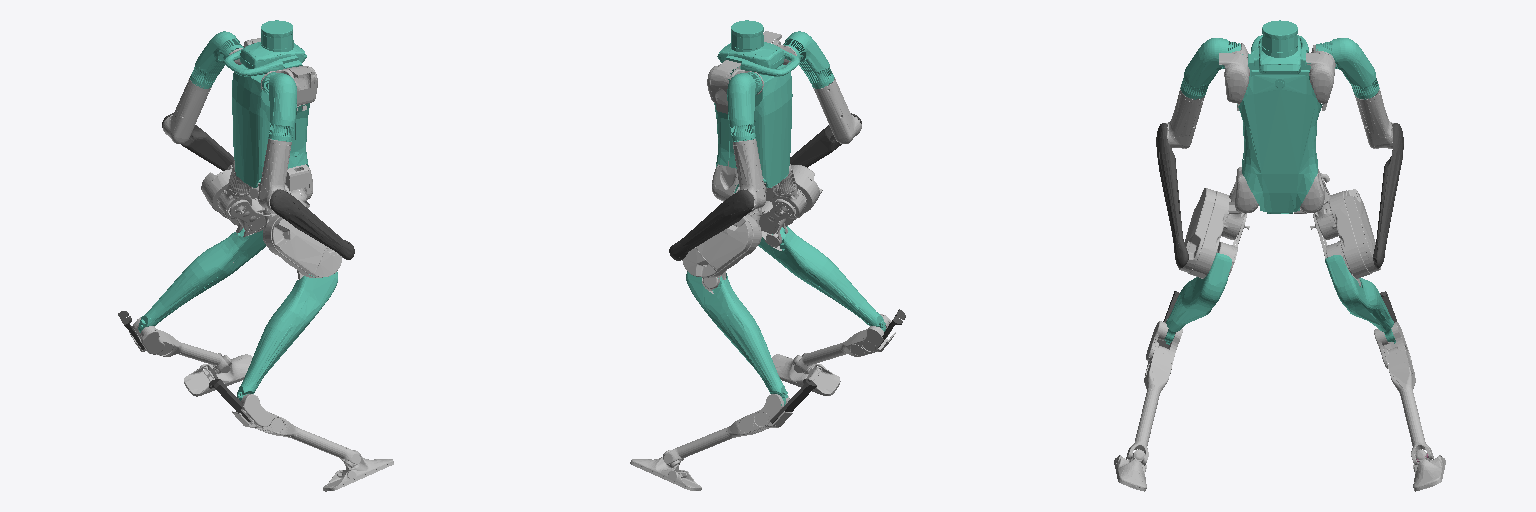
--- Facts derived from the render (not from the file) ---
The picture shows the robot from 3 angles, left to right: view 1: azimuth 30°, elevation 25°; view 2: azimuth 150°, elevation 25°; view 3: azimuth 270°, elevation 25°; orthographic projection.
Robot: digit-v3-modified — 33 links, 32 joints (17 revolute, 3 prismatic, 12 fixed); root link ground; default pose: every joint at zero.
Visible links, largest first — view 1: Rz, right_shin, left_shin, right_hip_pitch, right_tarsus, right_elbow, right_shoulder_pitch, left_tarsus, left_shoulder_yaw, left_shoulder_pitch, right_shoulder_yaw, left_toe_roll (+4 smaller); view 2: Rz, left_shin, right_shin, left_hip_pitch, left_tarsus, left_elbow, left_shoulder_pitch, right_tarsus, right_shoulder_yaw, right_shoulder_pitch, left_shoulder_yaw, right_toe_roll (+5 smaller); view 3: Rz, left_hip_pitch, right_hip_pitch, left_tarsus, right_tarsus, right_shin, left_shin, right_elbow, left_shoulder_pitch, right_shoulder_pitch, left_elbow, left_shoulder_yaw (+4 smaller).
Link boxes in pixels (box(x1,y1,x2,y2)): Rz: box(224, 20, 317, 207); right_shin: box(237, 272, 337, 400); left_shin: box(138, 228, 265, 332); right_hip_pitch: box(265, 215, 342, 277); right_tarsus: box(232, 394, 360, 463); right_elbow: box(270, 190, 354, 259); right_shoulder_pitch: box(262, 72, 296, 141); left_tarsus: box(129, 317, 230, 372); left_shoulder_yaw: box(163, 78, 211, 143); left_shoulder_pitch: box(190, 31, 243, 88); right_shoulder_yaw: box(258, 139, 291, 212); left_toe_roll: box(184, 354, 252, 396); Rz: box(707, 20, 799, 201); left_shin: box(686, 271, 787, 405); right_shin: box(758, 226, 885, 331); left_hip_pitch: box(682, 214, 759, 277); left_tarsus: box(663, 394, 792, 463); left_elbow: box(669, 190, 753, 260); left_shoulder_pitch: box(727, 72, 762, 141); right_tarsus: box(794, 314, 895, 372); right_shoulder_yaw: box(813, 78, 861, 143); right_shoulder_pitch: box(783, 31, 834, 88); left_shoulder_yaw: box(733, 139, 765, 211); right_toe_roll: box(772, 354, 840, 395); Rz: box(1219, 20, 1335, 213); left_hip_pitch: box(1313, 189, 1380, 278); right_hip_pitch: box(1178, 188, 1246, 278); left_tarsus: box(1374, 322, 1433, 464); right_tarsus: box(1126, 321, 1182, 464); right_shin: box(1164, 253, 1231, 344); left_shin: box(1325, 255, 1395, 343); right_elbow: box(1156, 123, 1188, 267); left_shoulder_pitch: box(1316, 38, 1379, 99); right_shoulder_pitch: box(1180, 38, 1242, 99); left_elbow: box(1373, 123, 1403, 268); left_shoulder_yaw: box(1354, 87, 1393, 148).
Bounding box of the posed robot: 0.5627 × 0.9376 × 1.4 m (x, y, z).
Meshes: 16 distinct files referenced, 31 mesh visuals loaded (16 binary STL).

URDF robot description (digit-v3-modified):
<?xml version="1.0" encoding="utf-8"?>
<robot name="digit-v3-modified">
  <!-- floating base -->
  <link name = "ground">
    <inertial>
      <origin xyz = "0 0 0" rpy = "0 0 0" />
      <mass value = "0"/>
      <inertia ixx = "0" ixy = "0" ixz = "0" iyy = "0" iyz = "0" izz = "0"/>
    </inertial>
  </link>
  <link name = "Px">
    <inertial>
      <origin xyz = "0 0 0" rpy = "0 0 0" />
      <mass value = "0"/>
      <inertia ixx = "0" ixy = "0" ixz = "0" iyy = "0" iyz = "0" izz = "0"/>
    </inertial>
  </link>
  <link name = "Py">
    <inertial>
      <origin xyz = "0 0 0" rpy = "0 0 0" />
      <mass value = "0"/>
      <inertia ixx = "0" ixy = "0" ixz = "0" iyy = "0" iyz = "0" izz = "0"/>
    </inertial>
  </link>
  <link name = "Pz">
    <inertial>
      <origin xyz = "0 0 0" rpy = "0 0 0" />
      <mass value = "0"/>
      <inertia ixx = "0" ixy = "0" ixz = "0" iyy = "0" iyz = "0" izz = "0"/>
    </inertial>
  </link>
  <link name = "Rx">
    <inertial>
      <origin xyz = "0 0 0" rpy = "0 0 0" />
      <mass value = "0"/>
      <inertia ixx = "0" ixy = "0" ixz = "0" iyy = "0" iyz = "0" izz = "0"/>
    </inertial>
  </link>
  <link name = "Ry">
    <inertial>
      <origin xyz = "0 0 0" rpy = "0 0 0" />
      <mass value = "0"/>
      <inertia ixx = "0" ixy = "0" ixz = "0" iyy = "0" iyz = "0" izz = "0"/>
    </inertial>
  </link>
  <link name = "Rz">
    <inertial>
      <origin rpy="0 0 0" xyz="0.001636612541 0.0002001180789 0.2593064529"/>
      <mass value="15.028392"/>
      <inertia ixx="0.3759052548" ixy="-8.776732849e-05" ixz="0.008498611229" iyy="0.3441935" iyz="6.621611757e-05" izz="0.09873232746"/>
    </inertial>
    <visual>
      <origin rpy="0 0 0" xyz="0 0 0"/>
      <geometry>
        <mesh filename="meshes/torso-v3/torso.stl"/>
      </geometry>
      <material name="scarlet">
        <color rgba="0.427 0.784 0.714 1"/>
      </material>
    </visual>
    <visual>
      <origin rpy="0 -1.5707963267948966192313216916398 0" xyz="-0.001 0.091 0"/>
      <geometry>
        <mesh filename="meshes/leg-v3/hip-roll-housing.stl"/>
      </geometry>
      <material name="light_grey">
        <color rgba="0.75 0.75 0.75 1"/>
      </material>
    </visual>
    <visual>
      <origin rpy="-0 -1.5707963267948966192313216916398 0" xyz="-0.001 0.12 0.4"/>
      <geometry>
        <mesh filename="meshes/arm-v3/link-0.stl"/>
      </geometry>
      <material name="light_grey">
        <color rgba="0.75 0.75 0.75 1"/>
      </material>
    </visual>
    <visual>
      <origin rpy="0 -1.5707963267948966192313216916398 0" xyz="-0.001 -0.091 0"/>
      <geometry>
        <mesh filename="meshes/leg-v3/hip-roll-housing.stl"/>
      </geometry>
      <material name="light_grey">
        <color rgba="0.75 0.75 0.75 1"/>
      </material>
    </visual>
    <visual>
      <origin rpy="0 -1.5707963267948966192313216916398 0" xyz="-0.001 -0.12 0.4"/>
      <geometry>
        <mesh filename="meshes/arm-v3/link-0.stl"/>
      </geometry>
      <material name="light_grey">
        <color rgba="0.75 0.75 0.75 1"/>
      </material>
    </visual>
    <collision>
      <origin rpy="0 0 0" xyz="0 0 0"/>
      <geometry>
        <mesh filename="meshes/torso-v3/torso.stl"/>
      </geometry>
    </collision>
    <collision>
      <origin rpy="0 -1.5707963267948966192313216916398 0" xyz="-0.001 0.091 0"/>
      <geometry>
        <mesh filename="meshes/leg-v3/hip-roll-housing.stl"/>
      </geometry>
    </collision>
    <collision>
      <origin rpy="-0.1745   -1.5707963267948966192313216916398         0" xyz="-0.001 0.12 0.4"/>
      <geometry>
        <mesh filename="meshes/arm-v3/link-0.stl"/>
      </geometry>
    </collision>
    <collision>
      <origin rpy="0 -1.5707963267948966192313216916398 0" xyz="-0.001 -0.091 0"/>
      <geometry>
        <mesh filename="meshes/leg-v3/hip-roll-housing.stl"/>
      </geometry>
    </collision>
    <collision>
      <origin rpy="0.1745   -1.5707963267948966192313216916398         0" xyz="-0.001 -0.12 0.4"/>
      <geometry>
        <mesh filename="meshes/arm-v3/link-0.stl"/>
      </geometry>
    </collision>
  </link>

  <!-- left leg -->
  <link name="left_hip_roll">
    <inertial>
      <origin rpy="0 0 0" xyz="-0.001967 0.000244 0.031435"/>
      <mass value="0.915088"/>
      <inertia ixx="0.001017" ixy="-3e-06" ixz="1.3e-05" iyy="0.001148" iyz="-4e-06" izz="0.000766"/>
    </inertial>
    <visual>
      <origin rpy="0 0 0" xyz="0 0 0"/>
      <geometry>
        <mesh filename="meshes/leg-v3/hip-yaw-housing.stl"/>
      </geometry>
      <material name="light_grey">
        <color rgba="0.75 0.75 0.75 1"/>
      </material>
    </visual>
    <collision>
      <origin rpy="0 0 0" xyz="0 0 0"/>
      <geometry>
        <mesh filename="meshes/leg-v3/hip-yaw-housing.stl"/>
      </geometry>
    </collision>
  </link>
  <link name="left_hip_yaw">
    <inertial>
      <origin rpy="0 0 0" xyz="1e-05 -0.001945 0.042033"/>
      <mass value="0.818753"/>
      <inertia ixx="0.001627" ixy="-1e-06" ixz="2e-06" iyy="0.001929" iyz="5.3e-05" izz="0.00077"/>
    </inertial>
    <visual>
      <origin rpy="0 0 0" xyz="0 0 0"/>
      <geometry>
        <mesh filename="meshes/leg-v3/hip-pitch-housing.stl"/>
      </geometry>
      <material name="light_grey">
        <color rgba="0.75 0.75 0.75 1"/>
      </material>
    </visual>
    <collision>
      <origin rpy="0 0 0" xyz="0 0 0"/>
      <geometry>
        <mesh filename="meshes/leg-v3/hip-pitch-housing.stl"/>
      </geometry>
    </collision>
  </link>
  <link name="left_hip_pitch">
    <inertial>
      <origin rpy="0 0 0" xyz="0.060537 0.000521 -0.038857"/>
      <mass value="6.244279"/>
      <inertia ixx="0.011533" ixy="-0.000171" ixz="0.000148" iyy="0.033345" iyz="0.000178" izz="0.033958"/>
    </inertial>
    <visual>
      <origin rpy="0 0 0" xyz="0 0 0"/>
      <geometry>
        <mesh filename="meshes/leg-v3/hip-pitch.stl"/>
      </geometry>
      <material name="scarlet">
        <color rgba="0.75 0.75 0.75 1"/>
      </material>
    </visual>
    <collision>
      <origin rpy="0 0 0" xyz="0 0 0"/>
      <geometry>
        <mesh filename="meshes/leg-v3/hip-pitch.stl"/>
      </geometry>
    </collision>
  </link>

  <!-- left knee close loop -->
  <!-- <link name="left_achilles_rod">
    <inertial>
      <origin rpy="0 0 0" xyz="0 0 0"/>
      <mass value="0."/>
      <inertia ixx="0" ixy="0" ixz="0" iyy="0" iyz="0" izz="0"/>
    </inertial>
    <visual>
      <origin rpy="0 0 0" xyz="0 0 0"/>
      <geometry>
        <mesh filename="meshes/leg-v3/achilles-rod.stl"/>
      </geometry>
      <material name="light_grey">
        <color rgba="0.75 0.75 0.75 1"/>
      </material>
    </visual>
    <collision>
      <origin rpy="0 0 0" xyz="0 0 0"/>
      <geometry>
        <mesh filename="meshes/leg-v3/achilles-rod.stl"/>
      </geometry>
    </collision>
  </link>
  <link name="left_ach2">
    <inertial>
      <origin rpy="0 0 0" xyz="0.2506 0 0"/>
      <mass value="0.178148"/>
      <inertia ixx="3e-06" ixy="0" ixz="0" iyy="0.004501" iyz="0" izz="0.004501"/>
    </inertial>
    <visual>
      <origin rpy="0 0 0" xyz="0 0 0"/>
      <geometry>
        <sphere radius = "0.0" />
      </geometry>
    </visual>
    <collision>
      <origin rpy="0 0 0" xyz="0 0 0"/>
      <geometry>
        <sphere radius = "0.0" />
      </geometry>
    </collision>
  </link> -->

  <link name="left_knee">
    <inertial>
      <origin rpy="0 0 0" xyz="0.045641 0.042154 0.001657"/>
      <mass value="1.227077"/>
      <inertia ixx="0.002643" ixy="-0.001832" ixz="6.6e-05" iyy="0.005098" iyz="4.5e-05" izz="0.007019"/>
    </inertial>
    <visual>
      <origin rpy="0 0 0" xyz="0 0 0"/>
      <geometry>
        <mesh filename="meshes/leg-v3/knee.stl"/>
      </geometry>
      <material name="light_grey">
        <color rgba="0.75 0.75 0.75 1"/>
      </material>
    </visual>
    <collision>
      <origin rpy="0 0 0" xyz="0 0 0"/>
      <geometry>
        <mesh filename="meshes/leg-v3/knee.stl"/>
      </geometry>
    </collision>
  </link>
  <link name="left_shin">
    <inertial>
      <origin rpy="0 0 0" xyz="0.174265 0.010265 0.00107"/>
      <mass value="0.895793"/>
      <inertia ixx="0.001128" ixy="0.001098" ixz="0.000196" iyy="0.022492" iyz="-3e-06" izz="0.022793"/>
    </inertial>
    <visual>
      <origin rpy="0 0 0" xyz="0 0 0"/>
      <geometry>
        <mesh filename="meshes/leg-v3/shin.stl"/>
      </geometry>
      <material name="scarlet">
        <color rgba="0.427 0.784 0.714 1"/>
      </material>
    </visual>
    <collision>
      <origin rpy="0 0 0" xyz="0 0 0"/>
      <geometry>
        <mesh filename="meshes/leg-v3/shin.stl"/>
      </geometry>
    </collision>
  </link>
  <link name="left_tarsus">
    <inertial>
      <origin rpy="0 0 0" xyz="0.100777 -0.029183 0.000678"/>
      <mass value="1.322865"/>
      <inertia ixx="0.000932" ixy="0.00061" ixz="0.000102" iyy="0.016409" iyz="9e-06" izz="0.016501"/>
    </inertial>
    <visual>
      <origin rpy="0 0 0" xyz="0 0 0"/>
      <geometry>
        <mesh filename="meshes/leg-v3/tarsus.stl"/>
      </geometry>
      <material name="light_grey">
        <color rgba="0.75 0.75 0.75 1"/>
      </material>
    </visual>
    <collision>
      <origin rpy="0 0 0" xyz="0 0 0"/>
      <geometry>
        <mesh filename="meshes/leg-v3/tarsus.stl"/>
      </geometry>
    </collision>
  </link>
  <link name="left_heel_spring">
    <inertial>
      <origin rpy="0 0 0" xyz="0.049086 0.004739 -4.5e-05"/>
      <mass value="0.230018"/>
      <inertia ixx="5.5e-05" ixy="1.5e-05" ixz="1e-06" iyy="0.00074" iyz="0" izz="0.000701"/>
    </inertial>
    <visual>
      <origin rpy="0 0 0" xyz="0 0 0"/>
      <geometry>
        <mesh filename="meshes/leg-v3/heel-spring.stl"/>
      </geometry>
      <material name="grey">
        <color rgba="0.35 0.35 0.35 1"/>
      </material>
    </visual>
    <collision>
      <origin rpy="0 0 0" xyz="0 0 0"/>
      <geometry>
        <mesh filename="meshes/leg-v3/heel-spring.stl"/>
      </geometry>
    </collision>
  </link>

  <!-- left toe close loop-->
  <!-- <link name="left_toe_A">
    <inertial>
      <origin rpy="0 0 0" xyz="0.005161 1e-06 -0.002248"/>
      <mass value="0.139557"/>
      <inertia ixx="2.9e-05" ixy="0" ixz="-4e-06" iyy="5.8e-05" iyz="0" izz="7.4e-05"/>
    </inertial>
    <visual>
      <origin rpy="0 0 0" xyz="0 0 0"/>
      <geometry>
        <mesh filename="meshes/leg-v3/toe-output.stl"/>
      </geometry>
      <material name="light_grey">
        <color rgba="0.75 0.75 0.75 1"/>
      </material>
    </visual>
    <collision>
      <origin rpy="0 0 0" xyz="0 0 0"/>
      <geometry>
        <mesh filename="meshes/leg-v3/toe-output.stl"/>
      </geometry>
    </collision>
  </link>
  <link name="left_toe_A_rod">
    <inertial>
      <origin rpy="0 0 0" xyz="0 0 0"/>
      <mass value="0."/>
      <inertia ixx="0" ixy="0" ixz="0" iyy="0" iyz="0" izz="0"/>
    </inertial>
    <visual>
      <origin rpy="0 0 0" xyz="0 0 0"/>
      <geometry>
        <mesh filename="meshes/leg-v3/toe-a-rod.stl"/>
      </geometry>
      <material name="light_grey">
        <color rgba="0.75 0.75 0.75 1"/>
      </material>
    </visual>
    <collision>
      <origin rpy="0 0 0" xyz="0 0 0"/>
      <geometry>
        <mesh filename="meshes/leg-v3/toe-a-rod.stl"/>
      </geometry>
    </collision>
  </link>
  <link name="left_A2">
    <inertial>
      <origin rpy="0 0 0" xyz="0.171071 0 0"/>
      <mass value="0.090983"/>
      <inertia ixx="1e-06" ixy="0" ixz="0" iyy="0.001182" iyz="0" izz="0.001182"/>
    </inertial>
    <visual>
      <origin rpy="0 0 0" xyz="0 0 0"/>
      <geometry>
        <sphere radius = "0.0" />
      </geometry>
    </visual>
    <collision>
      <origin rpy="0 0 0" xyz="0 0 0"/>
      <geometry>
        <sphere radius = "0.0" />
      </geometry>
    </collision>
  </link>
  <link name="left_toe_B">
    <inertial>
      <origin rpy="0 0 0" xyz="0.005161 1e-06 -0.002248"/>
      <mass value="0.139557"/>
      <inertia ixx="2.9e-05" ixy="0" ixz="-4e-06" iyy="5.8e-05" iyz="0" izz="7.4e-05"/>
    </inertial>
    <visual>
      <origin rpy="0 0 0" xyz="0 0 0"/>
      <geometry>
        <mesh filename="meshes/leg-v3/toe-output.stl"/>
      </geometry>
      <material name="light_grey">
        <color rgba="0.75 0.75 0.75 1"/>
      </material>
    </visual>
    <collision>
      <origin rpy="0 0 0" xyz="0 0 0"/>
      <geometry>
        <mesh filename="meshes/leg-v3/toe-output.stl"/>
      </geometry>
    </collision>
  </link>
  <link name="left_toe_B_rod">
    <inertial>
      <origin rpy="0 0 0" xyz="0 0 0"/>
      <mass value="0."/>
      <inertia ixx="0" ixy="0" ixz="0" iyy="0" iyz="0" izz="0"/>
    </inertial>
    <visual>
      <origin rpy="0 0 0" xyz="0 0 0"/>
      <geometry>
        <mesh filename="meshes/leg-v3/toe-b-rod.stl"/>
      </geometry>
      <material name="light_grey">
        <color rgba="0.75 0.75 0.75 1"/>
      </material>
    </visual>
    <collision>
      <origin rpy="0 0 0" xyz="0 0 0"/>
      <geometry>
        <mesh filename="meshes/leg-v3/toe-b-rod.stl"/>
      </geometry>
    </collision>
  </link>
  <link name="left_B2">
    <inertial>
      <origin rpy="0 0 0" xyz="0.142991 0 0"/>
      <mass value="0.079507"/>
      <inertia ixx="1e-06" ixy="0" ixz="0" iyy="0.000768" iyz="0" izz="0.000768"/>
    </inertial>
    <visual>
      <origin rpy="0 0 0" xyz="0 0 0"/>
      <geometry>
        <sphere radius = "0.0" />
      </geometry>
    </visual>
    <collision>
      <origin rpy="0 0 0" xyz="0 0 0"/>
      <geometry>
        <sphere radius = "0.0" />
      </geometry>
    </collision>
  </link> -->

  <link name="left_toe_pitch">
    <inertial>
      <origin rpy="0 0 0" xyz="-0.000141 2e-06 3e-06"/>
      <mass value="0.043881"/>
      <inertia ixx="5e-06" ixy="0" ixz="0" iyy="8e-06" iyz="0" izz="4e-06"/>
    </inertial>
    <visual>
      <origin rpy="0 0 0" xyz="0 0 0"/>
      <geometry>
        <mesh filename="meshes/leg-v3/toe-pitch.stl"/>
      </geometry>
    </visual>
    <collision>
      <origin rpy="0 0 0" xyz="0 0 0"/>
      <geometry>
        <mesh filename="meshes/leg-v3/toe-pitch.stl"/>
      </geometry>
      <material name="light_grey">
        <color rgba="0.75 0.75 0.75 1"/>
      </material>
    </collision>
  </link>
  <link name="left_toe_roll">
    <inertial>
      <origin rpy="0 0 0" xyz="9e-06 -0.028084 -0.023204"/>
      <mass value="0.531283"/>
      <inertia ixx="0.00187" ixy="0" ixz="0" iyy="0.001616" iyz="0.000566" izz="0.000843"/>
    </inertial>
    <visual>
      <origin rpy="0 0 0" xyz="0 0 0"/>
      <geometry>
        <mesh filename="meshes/leg-v3/toe-roll.stl"/>
      </geometry>
      <material name="light_grey">
        <color rgba="0.75 0.75 0.75 1"/>
      </material>
    </visual>
    <collision>
      <origin rpy="0 0 0" xyz="0 0 0"/>
      <geometry>
        <mesh filename="meshes/leg-v3/toe-roll.stl"/>
      </geometry>
    </collision>
  </link>

  <!-- left arm -->
  <link name="left_shoulder_roll">
    <inertial>
      <origin rpy="0 0 0" xyz="-0.000819 -0.003158 0.023405"/>
      <mass value="0.535396"/>
      <inertia ixx="0.000704" ixy="1.4e-05" ixz="1.2e-05" iyy="0.00075" iyz="3.5e-05" izz="0.000298"/>
    </inertial>
    <visual>
      <origin rpy="0         0   -0.2793" xyz="0 0 0"/>
      <geometry>
        <mesh filename="meshes/arm-v3/link-1.stl"/>
      </geometry>
      <material name="light_grey">
        <color rgba="0.75 0.75 0.75 1"/>
      </material>
    </visual>
    <collision>
      <origin rpy="0         0   -0.2793" xyz="0 0 0"/>
      <geometry>
        <mesh filename="meshes/arm-v3/link-1.stl"/>
      </geometry>
    </collision>
  </link>
  <link name="left_shoulder_pitch">
    <inertial>
      <origin rpy="0 0 0" xyz="-4.2e-05 -0.061882 -0.073788"/>
      <mass value="1.440357"/>
      <inertia ixx="0.006761" ixy="-6e-06" ixz="-3e-06" iyy="0.002087" iyz="-0.002046" izz="0.005778"/>
    </inertial>
    <visual>
      <origin rpy="0 0 0" xyz="0 0 0"/>
      <geometry>
        <mesh filename="meshes/arm-v3/link-2.stl"/>
      </geometry>
      <material name="scarlet">
        <color rgba="0.427 0.784 0.714 1"/>
      </material>
    </visual>
    <collision>
      <origin rpy="0 0 0" xyz="0 0 0"/>
      <geometry>
        <mesh filename="meshes/arm-v3/link-2.stl"/>
      </geometry>
    </collision>
  </link>
  <link name="left_shoulder_yaw">
    <inertial>
      <origin rpy="0 0 0" xyz="-3e-05 0.001937 0.11407"/>
      <mass value="1.065387"/>
      <inertia ixx="0.006967" ixy="-1e-06" ixz="-1e-06" iyy="0.007003" iyz="-1.5e-05" izz="0.000673"/>
    </inertial>
    <visual>
      <origin rpy="0 0 0" xyz="0 0 0"/>
      <geometry>
        <mesh filename="meshes/arm-v3/link-3.stl"/>
      </geometry>
      <material name="light_grey">
        <color rgba="0.75 0.75 0.75 1"/>
      </material>
    </visual>
    <collision>
      <origin rpy="0 0 0" xyz="0 0 0"/>
      <geometry>
        <mesh filename="meshes/arm-v3/link-3.stl"/>
      </geometry>
    </collision>
  </link>
  <link name="left_elbow">
    <inertial>
      <origin rpy="0 0 0" xyz="0.107996 0.000521 -0.017765"/>
      <mass value="0.550582"/>
      <inertia ixx="0.000476" ixy="-2.9e-05" ixz="0.001403" iyy="0.009564" iyz="9e-06" izz="0.009437"/>
    </inertial>
    <visual>
      <origin rpy="0 0 0" xyz="0 0 0"/>
      <geometry>
        <mesh filename="meshes/arm-v3/link-4.stl"/>
      </geometry>
      <material name="grey">
        <color rgba="0.35 0.35 0.35 1"/>
      </material>
    </visual>
    <collision>
      <origin rpy="0 0 0" xyz="0 0 0"/>
      <geometry>
        <mesh filename="meshes/arm-v3/link-4.stl"/>
      </geometry>
    </collision>
  </link>
  
  <!-- right leg -->
  <link name="right_hip_roll">
    <inertial>
      <origin rpy="0 0 0" xyz="-0.001967 -0.000244 0.031435"/>
      <mass value="0.915088"/>
      <inertia ixx="0.001017" ixy="3e-06" ixz="1.3e-05" iyy="0.001148" iyz="4e-06" izz="0.000766"/>
    </inertial>
    <visual>
      <origin rpy="0 0 0" xyz="0 0 0"/>
      <geometry>
        <mesh filename="meshes/leg-v3/hip-yaw-housing.stl" scale="1 1 1"/>
      </geometry>
      <material name="light_grey">
        <color rgba="0.75 0.75 0.75 1"/>
      </material>
    </visual>
    <collision>
      <origin rpy="0 0 0" xyz="0 0 0"/>
      <geometry>
        <mesh filename="meshes/leg-v3/hip-yaw-housing.stl" scale="1 1 1"/>
      </geometry>
    </collision>
  </link>
  <link name="right_hip_yaw">
    <inertial>
      <origin rpy="0 0 0" xyz="1e-05 0.001945 0.042033"/>
      <mass value="0.818753"/>
      <inertia ixx="0.001627" ixy="1e-06" ixz="2e-06" iyy="0.001929" iyz="-5.3e-05" izz="0.00077"/>
    </inertial>
    <visual>
      <origin rpy="0 0 3.1415926535897932384626433832795" xyz="0 0 0"/>
      <geometry>
        <mesh filename="meshes/leg-v3/hip-pitch-housing.stl" scale="1 1 1"/>
      </geometry>
      <material name="light_grey">
        <color rgba="0.75 0.75 0.75 1"/>
      </material>
    </visual>
    <collision>
      <origin rpy="0 0 0" xyz="0 0 0"/>
      <geometry>
        <mesh filename="meshes/leg-v3/hip-pitch-housing.stl" scale="1 1 1"/>
      </geometry>
    </collision>
  </link>
  <link name="right_hip_pitch">
    <inertial>
      <origin rpy="0 0 0" xyz="0.060537 -0.000521 -0.038857"/>
      <mass value="6.244279"/>
      <inertia ixx="0.011533" ixy="0.000171" ixz="0.000148" iyy="0.033345" iyz="-0.000178" izz="0.033958"/>
    </inertial>
    <visual>
      <origin rpy="0 0 0" xyz="0 0 0"/>
      <geometry>
        <mesh filename="meshes/leg-v3/hip-pitch.stl" scale="1 1 1"/>
      </geometry>
      <material name="scarlet">
        <color rgba="0.75 0.75 0.75 1"/>
      </material>
    </visual>
    <collision>
      <origin rpy="0 0 0" xyz="0 0 0"/>
      <geometry>
        <mesh filename="meshes/leg-v3/hip-pitch.stl" scale="1 1 1"/>
      </geometry>
    </collision>
  </link>

  <!-- right knee close loop -->
  <!-- <link name="right_achilles_rod">
    <inertial>
      <origin rpy="0 0 0" xyz="0 0 0"/>
      <mass value="0."/>
      <inertia ixx="0" ixy="0" ixz="0" iyy="0" iyz="0" izz="0"/>
    </inertial>
    <visual>
      <origin rpy="0 0 0" xyz="0 0 0"/>
      <geometry>
        <mesh filename="meshes/leg-v3/achilles-rod.stl" scale="1 1 1"/>
      </geometry>
      <material name="light_grey">
        <color rgba="0.75 0.75 0.75 1"/>
      </material>
    </visual>
    <collision>
      <origin rpy="0 0 0" xyz="0 0 0"/>
      <geometry>
        <mesh filename="meshes/leg-v3/achilles-rod.stl" scale="1 1 1"/>
      </geometry>
    </collision>
  </link>
  <link name="right_ach2">
    <inertial>
      <origin rpy="0 0 0" xyz="0.2506 0 0"/>
      <mass value="0.178148"/>
      <inertia ixx="3e-06" ixy="0" ixz="0" iyy="0.004501" iyz="0" izz="0.004501"/>
    </inertial>
    <visual>
      <origin rpy="0 0 0" xyz="0 0 0"/>
      <geometry>
        <sphere radius = "0.0" />
      </geometry>
    </visual>
    <collision>
      <origin rpy="0 0 0" xyz="0 0 0"/>
      <geometry>
        <sphere radius = "0.0" />
      </geometry>
    </collision>
  </link> -->

  <link name="right_knee">
    <inertial>
      <origin rpy="0 0 0" xyz="0.045641 -0.042154 0.001657"/>
      <mass value="1.227077"/>
      <inertia ixx="0.002643" ixy="0.001832" ixz="6.6e-05" iyy="0.005098" iyz="-4.5e-05" izz="0.007019"/>
    </inertial>
    <visual>
      <origin rpy="3.1415926535897932384626433832795 0 0" xyz="0 0 0"/>
      <geometry>
        <mesh filename="meshes/leg-v3/knee.stl" scale="1 1 1"/>
      </geometry>
      <material name="light_grey">
        <color rgba="0.75 0.75 0.75 1"/>
      </material>
    </visual>
    <collision>
      <origin rpy="0 0 0" xyz="0 0 0"/>
      <geometry>
        <mesh filename="meshes/leg-v3/knee.stl" scale="1 1 1"/>
      </geometry>
    </collision>
  </link>
  <link name="right_shin">
    <inertial>
      <origin rpy="0 0 0" xyz="0.174265 -0.010265 0.00107"/>
      <mass value="0.895793"/>
      <inertia ixx="0.001128" ixy="-0.001098" ixz="0.000196" iyy="0.022492" iyz="3e-06" izz="0.022793"/>
    </inertial>
    <visual>
      <origin rpy="3.1415926535897932384626433832795 0 0" xyz="0 0 0"/>
      <geometry>
        <mesh filename="meshes/leg-v3/shin.stl" scale="1 1 1"/>
      </geometry>
      <material name="scarlet">
        <color rgba="0.427 0.784 0.714 1"/>
      </material>
    </visual>
    <collision>
      <origin rpy="0 0 0" xyz="0 0 0"/>
      <geometry>
        <mesh filename="meshes/leg-v3/shin.stl" scale="1 1 1"/>
      </geometry>
    </collision>
  </link>
  <link name="right_tarsus">
    <inertial>
      <origin rpy="0 0 0" xyz="0.100777 0.029183 0.000678"/>
      <mass value="1.322865"/>
      <inertia ixx="0.000932" ixy="-0.00061" ixz="0.000102" iyy="0.016409" iyz="-9e-06" izz="0.016501"/>
    </inertial>
    <visual>
      <origin rpy="3.1415926535897932384626433832795 0 0" xyz="0 0 0"/>
      <geometry>
        <mesh filename="meshes/leg-v3/tarsus.stl" scale="1 1 1"/>
      </geometry>
      <material name="light_grey">
        <color rgba="0.75 0.75 0.75 1"/>
      </material>
    </visual>
    <collision>
      <origin rpy="0 0 0" xyz="0 0 0"/>
      <geometry>
        <mesh filename="meshes/leg-v3/tarsus.stl" scale="1 1 1"/>
      </geometry>
    </collision>
  </link>
  <link name="right_heel_spring">
    <inertial>
      <origin rpy="0 0 0" xyz="0.049086 -0.004739 -4.5e-05"/>
      <mass value="0.230018"/>
      <inertia ixx="5.5e-05" ixy="-1.5e-05" ixz="1e-06" iyy="0.00074" iyz="0" izz="0.000701"/>
    </inertial>
    <visual>
      <origin rpy="0 0 0" xyz="0 0 0"/>
      <geometry>
        <mesh filename="meshes/leg-v3/heel-spring.stl" scale="1 1 1"/>
      </geometry>
      <material name="grey">
        <color rgba="0.35 0.35 0.35 1"/>
      </material>
    </visual>
    <collision>
      <origin rpy="0 0 0" xyz="0 0 0"/>
      <geometry>
        <mesh filename="meshes/leg-v3/heel-spring.stl" scale="1 1 1"/>
      </geometry>
    </collision>
  </link>

  <!-- right toe close loop -->
  <!-- <link name="right_toe_A">
    <inertial>
      <origin rpy="0 0 0" xyz="0.005161 -1e-06 -0.002248"/>
      <mass value="0.139557"/>
      <inertia ixx="2.9e-05" ixy="0" ixz="-4e-06" iyy="5.8e-05" iyz="0" izz="7.4e-05"/>
    </inertial>
    <visual>
      <origin rpy="0 0 0" xyz="0 0 0"/>
      <geometry>
        <mesh filename="meshes/leg-v3/toe-output.stl" scale="1 1 1"/>
      </geometry>
      <material name="light_grey">
        <color rgba="0.75 0.75 0.75 1"/>
      </material>
    </visual>
    <collision>
      <origin rpy="0 0 0" xyz="0 0 0"/>
      <geometry>
        <mesh filename="meshes/leg-v3/toe-output.stl" scale="1 1 1"/>
      </geometry>
    </collision>
  </link>
  <link name="right_toe_A_rod">
    <inertial>
      <origin rpy="0 0 0" xyz="0 0 0"/>
      <mass value="0."/>
      <inertia ixx="0" ixy="0" ixz="0" iyy="0" iyz="0" izz="0"/>
    </inertial>
    <visual>
      <origin rpy="0 0 0" xyz="0 0 0"/>
      <geometry>
        <mesh filename="meshes/leg-v3/toe-a-rod.stl" scale="1 1 1"/>
      </geometry>
      <material name="light_grey">
        <color rgba="0.75 0.75 0.75 1"/>
      </material>
    </visual>
    <collision>
      <origin rpy="0 0 0" xyz="0 0 0"/>
      <geometry>
        <mesh filename="meshes/leg-v3/toe-a-rod.stl" scale="1 1 1"/>
      </geometry>
    </collision>
  </link>
  <link name="right_A2">
    <inertial>
      <origin rpy="0 0 0" xyz="0.171071 0 0"/>
      <mass value="0.090983"/>
      <inertia ixx="1e-06" ixy="0" ixz="0" iyy="0.001182" iyz="0" izz="0.001182"/>
    </inertial>
    <visual>
      <origin rpy="0 0 0" xyz="0 0 0"/>
      <geometry>
        <sphere radius = "0.0" />
      </geometry>
    </visual>
    <collision>
      <origin rpy="0 0 0" xyz="0 0 0"/>
      <geometry>
        <sphere radius = "0.0" />
      </geometry>
    </collision>
  </link>
  <link name="right_toe_B">
    <inertial>
      <origin rpy="0 0 0" xyz="0.005161 -1e-06 -0.002248"/>
      <mass value="0.139557"/>
      <inertia ixx="2.9e-05" ixy="0" ixz="-4e-06" iyy="5.8e-05" iyz="0" izz="7.4e-05"/>
    </inertial>
    <visual>
      <origin rpy="0 0 0" xyz="0 0 0"/>
      <geometry>
        <mesh filename="meshes/leg-v3/toe-output.stl" scale="1 1 1"/>
      </geometry>
      <material name="light_grey">
        <color rgba="0.75 0.75 0.75 1"/>
      </material>
    </visual>
    <collision>
      <origin rpy="0 0 0" xyz="0 0 0"/>
      <geometry>
        <mesh filename="meshes/leg-v3/toe-output.stl" scale="1 1 1"/>
      </geometry>
    </collision>
  </link>
  <link name="right_toe_B_rod">
    <inertial>
      <origin rpy="0 0 0" xyz="0 0 0"/>
      <mass value="0."/>
      <inertia ixx="0" ixy="0" ixz="0" iyy="0" iyz="0" izz="0"/>
    </inertial>
    <visual>
      <origin rpy="0 0 0" xyz="0 0 0"/>
      <geometry>
        <mesh filename="meshes/leg-v3/toe-b-rod.stl" scale="1 1 1"/>
      </geometry>
      <material name="light_grey">
        <color rgba="0.75 0.75 0.75 1"/>
      </material>
    </visual>
    <collision>
      <origin rpy="0 0 0" xyz="0 0 0"/>
      <geometry>
        <mesh filename="meshes/leg-v3/toe-b-rod.stl" scale="1 1 1"/>
      </geometry>
    </collision>
  </link>
  <link name="right_B2">
    <inertial>
      <origin rpy="0 0 0" xyz="0.142991 0 0"/>
      <mass value="0.079507"/>
      <inertia ixx="1e-06" ixy="0" ixz="0" iyy="0.000768" iyz="0" izz="0.000768"/>
    </inertial>
    <visual>
      <origin rpy="0 0 0" xyz="0 0 0"/>
      <geometry>
        <sphere radius = "0.0" />
      </geometry>
    </visual>
    <collision>
      <origin rpy="0 0 0" xyz="0 0 0"/>
      <geometry>
        <sphere radius = "0.0" />
      </geometry>
    </collision>
  </link> -->

  <link name="right_toe_pitch">
    <inertial>
      <origin rpy="0 0 0" xyz="-0.000141 -2e-06 3e-06"/>
      <mass value="0.043881"/>
      <inertia ixx="5e-06" ixy="0" ixz="0" iyy="8e-06" iyz="0" izz="4e-06"/>
    </inertial>
    <visual>
      <origin rpy="0 0 0" xyz="0 0 0"/>
      <geometry>
        <mesh filename="meshes/leg-v3/toe-pitch.stl" scale="1 1 1"/>
      </geometry>
      <material name="light_grey">
        <color rgba="0.75 0.75 0.75 1"/>
      </material>
    </visual>
    <collision>
      <origin rpy="0 0 0" xyz="0 0 0"/>
      <geometry>
        <mesh filename="meshes/leg-v3/toe-pitch.stl" scale="1 1 1"/>
      </geometry>
    </collision>
  </link>
  <link name="right_toe_roll">
    <inertial>
      <origin rpy="0 0 0" xyz="9e-06 0.028084 -0.023204"/>
      <mass value="0.531283"/>
      <inertia ixx="0.00187" ixy="0" ixz="0" iyy="0.001616" iyz="-0.000566" izz="0.000843"/>
    </inertial>
    <visual>
      <origin rpy="0 0 3.1415926535897932384626433832795" xyz="0 0 0"/>
      <geometry>
        <mesh filename="meshes/leg-v3/toe-roll.stl" scale="1 1 1"/>
      </geometry>
      <material name="light_grey">
        <color rgba="0.75 0.75 0.75 1"/>
      </material>
    </visual>
    <collision>
      <origin rpy="0 0 0" xyz="0 0 0"/>
      <geometry>
        <mesh filename="meshes/leg-v3/toe-roll.stl" scale="1 1 1"/>
      </geometry>
    </collision>
  </link>

  <!-- right arm -->
  <link name="right_shoulder_roll">
    <inertial>
      <origin rpy="0 0 0" xyz="-0.000819 0.003158 0.023405"/>
      <mass value="0.535396"/>
      <inertia ixx="0.000704" ixy="-1.4e-05" ixz="1.2e-05" iyy="0.00075" iyz="-3.5e-05" izz="0.000298"/>
    </inertial>
    <visual>
      <origin rpy="0         0    3.1415926535897932384626433832795" xyz="0 0 0"/>
      <geometry>
        <mesh filename="meshes/arm-v3/link-1.stl" scale="1 1 1"/>
      </geometry>
      <material name="light_grey">
        <color rgba="0.75 0.75 0.75 1"/>
      </material>
    </visual>
    <collision>
      <origin rpy="0         0    0.2793" xyz="0 0 0"/>
      <geometry>
        <mesh filename="meshes/arm-v3/link-1.stl" scale="1 1 1"/>
      </geometry>
    </collision>
  </link>
  <link name="right_shoulder_pitch">
    <inertial>
      <origin rpy="0 0 0" xyz="-4.2e-05 0.061882 -0.073788"/>
      <mass value="1.440357"/>
      <inertia ixx="0.006761" ixy="6e-06" ixz="-3e-06" iyy="0.002087" iyz="0.002046" izz="0.005778"/>
    </inertial>
    <visual>
      <origin rpy="0 0 3.1415926535897932384626433832795" xyz="0 0 0"/>
      <geometry>
        <mesh filename="meshes/arm-v3/link-2.stl" scale="1 1 1"/>
      </geometry>
      <material name="scarlet">
        <color rgba="0.427 0.784 0.714 1"/>
      </material>
    </visual>
    <collision>
      <origin rpy="0 0 0" xyz="0 0 0"/>
      <geometry>
        <mesh filename="meshes/arm-v3/link-2.stl" scale="1 1 1"/>
      </geometry>
    </collision>
  </link>
  <link name="right_shoulder_yaw">
    <inertial>
      <origin rpy="0 0 0" xyz="-3e-05 -0.001937 0.11407"/>
      <mass value="1.065387"/>
      <inertia ixx="0.006967" ixy="1e-06" ixz="-1e-06" iyy="0.007003" iyz="1.5e-05" izz="0.000673"/>
    </inertial>
    <visual>
      <origin rpy="0 0 3.1415926535897932384626433832795" xyz="0 0 0"/>
      <geometry>
        <mesh filename="meshes/arm-v3/link-3.stl" scale="1 1 1"/>
      </geometry>
      <material name="light_grey">
        <color rgba="0.75 0.75 0.75 1"/>
      </material>
    </visual>
    <collision>
      <origin rpy="0 0 0" xyz="0 0 0"/>
      <geometry>
        <mesh filename="meshes/arm-v3/link-3.stl" scale="1 1 1"/>
      </geometry>
    </collision>
  </link>
  <link name="right_elbow">
    <inertial>
      <origin rpy="0 0 0" xyz="0.107996 -0.000521 -0.017765"/>
      <mass value="0.550582"/>
      <inertia ixx="0.000476" ixy="2.9e-05" ixz="0.001403" iyy="0.009564" iyz="-9e-06" izz="0.009437"/>
    </inertial>
    <visual>
      <origin rpy="0 0 0" xyz="0 0 0"/>
      <geometry>
        <mesh filename="meshes/arm-v3/link-4.stl" scale="1 1 1"/>
      </geometry>
      <material name="grey">
        <color rgba="0.35 0.35 0.35 1"/>
      </material>
    </visual>
    <collision>
      <origin rpy="0 0 0" xyz="0 0 0"/>
      <geometry>
        <mesh filename="meshes/arm-v3/link-4.stl" scale="1 1 1"/>
      </geometry>
    </collision>
  </link>

  <!-- floating base -->
  <joint name = "Px" type = "prismatic">
    <parent link = "ground" />
    <child link = "Px" />
    <origin xyz = "0 0 0" />
    <axis xyz = "1 0 0" />
    <limit effort="1000" lower="-2" upper="2" velocity="1000"/>
  </joint>
  <joint name = "Py" type = "prismatic">
    <parent link = "Px" />
    <child link = "Py" />
    <origin xyz = "0 0 0" />
    <axis xyz = "0 1 0" />
    <limit effort="1000" lower="-2" upper="2" velocity="1000"/>
  </joint>
  <joint name = "Pz" type = "prismatic">
    <parent link = "Py" />
    <child link = "Pz" />
    <origin xyz = "0 0 0" />
    <axis xyz = "0 0 1" />
    <limit effort="1000" lower="-2" upper="2" velocity="1000"/>
  </joint>
  <joint name = "Rx" type = "revolute">
    <parent link = "Pz" />
    <child link = "Rx" />
    <origin xyz = "0 0 0" />
    <axis xyz = "1 0 0" />
    <limit effort="1000" lower="-1000" upper="1000" velocity="1000"/>
  </joint>
  <joint name = "Ry" type = "revolute">
    <parent link = "Rx" />
    <child link = "Ry" />
    <origin xyz = "0 0 0" />
    <axis xyz = "0 1 0" />
    <limit effort="1000" lower="-1000" upper="1000" velocity="1000"/>
  </joint>    
  <joint name = "Rz" type = "revolute">
    <parent link = "Ry" />
    <child link = "Rz" />
    <origin xyz = "0 0 0" />
    <axis xyz = "0 0 1" />
    <limit effort="1000" lower="-1000" upper="1000" velocity="1000"/>
  </joint> 

  <!-- left leg -->
  <joint name="left_hip_roll" type="revolute">
    <origin rpy="1.5707963267948966192313216916398 -1.1955515003397312323585310878116 -1.5707963267948966192313216916398" xyz="-0.001 0.091 0"/> 
    <axis xyz="0 0 1"/>
    <parent link="Rz"/>
    <child link="left_hip_roll"/>
    <dynamics damping="1.0" friction="1.0"/>
    <limit effort="1.4" lower="-1.0472" upper="1.0472" velocity="12.15"/>
  </joint>
  <joint name="left_hip_yaw" type="revolute">
    <origin rpy="0   -1.5707963267948966192313216916398         0" xyz="-0.0505 0 0.044"/>
    <axis xyz="0 0 1"/>
    <parent link="left_hip_roll"/>
    <child link="left_hip_yaw"/>
    <dynamics damping="1.0" friction="1.0"/>
    <limit effort="1.4" lower="-0.698132" upper="0.698132" velocity="12.15"/>
  </joint>
  <joint name="left_hip_pitch" type="revolute">
    <origin rpy="-1.5707963267948966192313216916398 -0.78539816339739465522740147207514 3.1415926535897932384626433832795" xyz="0 0.004 0.068"/>
    <axis xyz="0 0 -1"/>
    <parent link="left_hip_yaw"/>
    <child link="left_hip_pitch"/>
    <dynamics damping="1.0" friction="0.5"/>
    <limit effort="12.5" lower="-1.0472" upper="1.5707963267948966192313216916398" velocity="8.5"/>
  </joint>

  <!-- left knee close loop -->
  <!-- <joint name="left_achilles_rod" type="revolute">
    <origin rpy="0.0087528908613780896652567520277444 0.07085157762907765000015558598534 -1.4355410054288866295024718056084" xyz="0 0 0.046"/>
    <axis xyz="0 0 1"/>
    <parent link="left_hip_pitch"/>
    <child link="left_achilles_rod"/>
    <dynamics damping="0.01" friction="0.0"/>
    <limit effort="12.5" lower="-1.7453" upper="1.7453" velocity="8.5085"/>
  </joint>
  <joint name="left_ach2" type="revolute">
    <origin rpy="0 0 0" xyz="0 0 0"/>
    <axis xyz="0 1 0"/>
    <parent link="left_achilles_rod"/>
    <child link="left_ach2"/>
    <dynamics damping="0.01" friction="0.0"/>
    <limit effort="0.9" lower="-1.7453" upper="1.7453" velocity="11.5"/>
  </joint> -->

  <joint name="left_knee" type="revolute">
    <origin rpy="0         0   -1.5707963267948966192313216916398" xyz="0.12 0 0.0045"/>
    <axis xyz="0 0 1"/>
    <parent link="left_hip_pitch"/>
    <child link="left_knee"/>
    <dynamics damping="1.0" friction="0.5"/>
    <limit effort="12.5" lower="-1.3963" upper="1.0193" velocity="8.5085"/>
  </joint>
  <joint name="left_shin" type="fixed">
    <origin rpy="0 0 0" xyz="0.060677 0.047406 0"/>
    <axis xyz="0 0 1"/>
    <parent link="left_knee"/>
    <child link="left_shin"/>
    <dynamics damping="0.0" friction="0.0"/>
    <limit effort="0" lower="-0.35" upper="0.35" velocity="10"/>
  </joint>
  <joint name="left_tarsus" type="revolute">
    <origin rpy="0         0    1.7976883650999471164766418951331" xyz="0.434759 0.02 0"/>
    <axis xyz="0 0 1"/>
    <parent link="left_shin"/>
    <child link="left_tarsus"/>
    <dynamics damping="0.0" friction="0.0"/>
    <limit effort="0" lower="-0.8779" upper="1.2497" velocity="20"/>
  </joint>
  <joint name="left_heel_spring" type="fixed">
    <origin rpy="-0.068907263191147760661436905138544 -0.03703539652360886280657581437481 2.7207176029176958209632175567094" xyz="-0.01766 -0.029456 0.00104"/>
    <axis xyz="0 0 1"/>
    <parent link="left_tarsus"/>
    <child link="left_heel_spring"/>
    <dynamics damping="0.0" friction="0.0"/>
    <limit effort="12" lower="-0.1047" upper="0.1047" velocity="11.5"/>
  </joint>

  <!-- left toe close loop -->
  <!-- <joint name="left_toe_A" type="revolute">
    <origin rpy="3.1415926535897932384626433832795 0 -1.5526449025733231046331184188602" xyz="0.059 -0.034 -0.0276"/>
    <axis xyz="0 0 1"/>
    <parent link="left_tarsus"/>
    <child link="left_toe_A"/>
    <dynamics damping="1.0" friction="1.0"/>
    <limit effort="0.9" lower="-0.8077" upper="0.7851" velocity="11.5"/>
  </joint>
  <joint name="left_toe_A_rod" type="revolute">
    <origin rpy="-0.037175987474526640819139089444434 0.0069420091856212517295032782271846 -1.5437619437662688515189302052022" xyz="0.057 0 -0.008"/>
    <axis xyz="0 0 1"/>
    <parent link="left_toe_A"/>
    <child link="left_toe_A_rod"/>
    <dynamics damping="0.01" friction="0.0"/>
    <limit effort="0.9" lower="-1.7453" upper="1.7453" velocity="11.5"/>
  </joint>
  <joint name="left_A2" type="revolute">
    <origin rpy="0 0 0" xyz="0 0 0"/>
    <axis xyz="0 1 0"/>
    <parent link="left_toe_A_rod"/>
    <child link="left_A2"/>
    <dynamics damping="0.01" friction="0.0"/>
    <limit effort="0.9" lower="-1.7453" upper="1.7453" velocity="11.5"/>
  </joint>
  <joint name="left_toe_B" type="revolute">
    <origin rpy="0         0   -1.5526446425200970402613620535703" xyz="0.111 -0.034 0.0276"/>
    <axis xyz="0 0 1"/>
    <parent link="left_tarsus"/>
    <child link="left_toe_B"/>
    <dynamics damping="1.0" friction="1.0"/>
    <limit effort="0.9" lower="-0.8010" upper="0.7950" velocity="11.5"/>
  </joint>
  <joint name="left_toe_B_rod" type="revolute">
    <origin rpy="-0.053844685552438438513878082858355 0.0022826832958013874852465363574083 1.5418663490001245364169335516635" xyz="0.057 0 -0.008"/>
    <axis xyz="0 0 1"/>
    <parent link="left_toe_B"/>
    <child link="left_toe_B_rod"/>
    <dynamics damping="0.01" friction="0.0"/>
    <limit effort="0.9" lower="-1.7453" upper="1.7453" velocity="11.5"/>
  </joint>
  <joint name="left_B2" type="revolute">
    <origin rpy="0 0 0" xyz="0 0 0"/>
    <axis xyz="0 1 0"/>
    <parent link="left_toe_B_rod"/>
    <child link="left_B2"/>
    <dynamics damping="0.01" friction="0.0"/>
    <limit effort="0.9" lower="-1.7453" upper="1.7453" velocity="11.5"/>
  </joint> -->

  <joint name="left_toe_pitch" type="revolute">
    <origin rpy="0         0    1.2522744638393012994725950193242" xyz="0.408 -0.04 0"/>
    <axis xyz="0 0 1"/>
    <parent link="left_tarsus"/>
    <child link="left_toe_pitch"/>
    <dynamics damping="0.0" friction="0.0"/>
    <limit effort="0.9" lower="-0.7679" upper="0.5934" velocity="11.5"/>
  </joint>
  <joint name="left_toe_roll" type="revolute">
    <origin rpy="0    1.5707963267948966192313216916398         0" xyz="0 0 0"/>
    <axis xyz="0 0 1"/>
    <parent link="left_toe_pitch"/>
    <child link="left_toe_roll"/>
    <dynamics damping="0.0" friction="0.0"/>
    <limit effort="0.9" lower="-0.6458" upper="0.5760" velocity="11.5"/>
  </joint>

  <!-- left arm -->
  <joint name="left_shoulder_roll" type="fixed">
    <origin rpy="-1.5707963267948966192313216916398 -1.5467303 1.5707963267948966192313216916398" xyz="-0.001 0.12 0.4"/>
    <axis xyz="0 0 1"/>
    <parent link="Rz"/>
    <child link="left_shoulder_roll"/>
    <dynamics damping="2.0" friction="2.0"/>
    <limit effort="1.4" lower="-1.309" upper="1.309" velocity="12.5"/>
  </joint>
  <joint name="left_shoulder_pitch" type="fixed">
    <origin rpy="1.5707963267948966192313216916398 1.875658163397448285891755404009 -0.2792527" xyz="-0.00317 -0.011055 0.0555"/>
    <axis xyz="0 0 -1"/>
    <parent link="left_shoulder_roll"/>
    <child link="left_shoulder_pitch"/>
    <dynamics damping="2.0" friction="2.0"/>
    <limit effort="1.4" lower="-2.5307" upper="2.5307" velocity="12.5"/>
  </joint>
  <joint name="left_shoulder_yaw" type="fixed">
    <origin rpy="1.5707963267948966192313216916398 -0.14981736 0" xyz="0 -0.165 -0.1"/>
    <axis xyz="0 0 1"/>
    <parent link="left_shoulder_pitch"/>
    <child link="left_shoulder_yaw"/>
    <dynamics damping="2.0" friction="2.0"/>
    <limit effort="1.4" lower="-1.7453" upper="1.7453" velocity="10"/>
  </joint>
  <joint name="left_elbow" type="fixed">
    <origin rpy="1.5707963267948966192313216916398 -0.3926991 0" xyz="0 -0.0385 0.185"/>
    <axis xyz="0 0 1"/>
    <parent link="left_shoulder_yaw"/>
    <child link="left_elbow"/>
    <dynamics damping="2.0" friction="2.0"/>
    <limit effort="1.4" lower="-1.3526" upper="1.3526" velocity="12.5"/>
  </joint>

  <!-- right leg -->
  <joint name="right_hip_roll" type="revolute">
    <origin rpy="-1.5707963267948966192313216916398 -1.1955515003397312323585310878116 1.5707963267948966192313216916398" xyz="-0.001 -0.091 0"/>
    <axis xyz="0 0 1"/>
    <parent link="Rz"/>
    <child link="right_hip_roll"/>
    <dynamics damping="1.0" friction="1.0"/>
    <limit effort="1.4" lower="-1.0472" upper="1.0472" velocity="12.15"/>
  </joint>
  <joint name="right_hip_yaw" type="revolute">
    <origin rpy="0   -1.5707963267948966192313216916398         0" xyz="-0.0505 0 0.044"/>
    <axis xyz="0 0 1"/>
    <parent link="right_hip_roll"/>
    <child link="right_hip_yaw"/>
    <dynamics damping="1.0" friction="1.0"/>
    <limit effort="1.4" lower="-0.698132" upper="0.698132" velocity="12.15"/>
  </joint>
  <joint name="right_hip_pitch" type="revolute">
    <origin rpy="1.5707963267948966192313216916398 -0.78539855435120076165844693605322 3.1415926535897932384626433832795" xyz="0 -0.004 0.068"/>
    <axis xyz="0 0 -1"/>
    <parent link="right_hip_yaw"/>
    <child link="right_hip_pitch"/>
    <dynamics damping="1.0" friction="0.5"/>
    <limit effort="12.5" lower="-1.5707963267948966192313216916398" upper="1.0472" velocity="8.5"/>
  </joint>

  <!-- right knee close loop -->
  <!-- <joint name="right_achilles_rod" type="revolute">
    <origin rpy="-0.0087523017375784415566863927438135 0.070851391807226243857442682383407 1.4355417226017064269427692124736" xyz="0 0 0.046"/>
    <axis xyz="0 0 1"/>
    <parent link="right_hip_pitch"/>
    <child link="right_achilles_rod"/>
    <dynamics damping="0.01" friction="0.0"/>
    <limit effort="12.5" lower="-1.7453" upper="1.7453" velocity="8.5085"/>
  </joint>
  <joint name="right_ach2" type="revolute">
    <origin rpy="0 0 0" xyz="0 0 0"/>
    <axis xyz="0 1 0"/>
    <parent link="right_achilles_rod"/>
    <child link="right_ach2"/>
    <dynamics damping="0.01" friction="0.0"/>
    <limit effort="0.9" lower="-1.7453" upper="1.7453" velocity="11.5"/>
  </joint> -->

  <joint name="right_knee" type="revolute">
    <origin rpy="0         0    1.5707963267948966192313216916398" xyz="0.12 0 0.0045"/>
    <axis xyz="0 0 1"/>
    <parent link="right_hip_pitch"/>
    <child link="right_knee"/>
    <dynamics damping="1.0" friction="0.5"/>
    <limit effort="12.5" lower="-1.0193" upper="1.3963" velocity="8.5085"/>
  </joint>
  <joint name="right_shin" type="fixed">
    <origin rpy="0 0 0" xyz="0.060677 -0.047406 0"/>
    <axis xyz="0 0 1"/>
    <parent link="right_knee"/>
    <child link="right_shin"/>
    <dynamics damping="0.0" friction="0.0"/>
    <limit effort="0" lower="-0.35" upper="0.35" velocity="10"/>
  </joint>
  <joint name="right_tarsus" type="revolute">
    <origin rpy="0         0   -1.7976883650999471164766418951331" xyz="0.434759 -0.02 0"/>
    <axis xyz="0 0 1"/>
    <parent link="right_shin"/>
    <child link="right_tarsus"/>
    <dynamics damping="0.0" friction="0.0"/>
    <limit effort="0" lower="-1.2497" upper="0.8779" velocity="20"/>
  </joint>
  <joint name="right_heel_spring" type="fixed">
    <origin rpy="0.068907849662554282454962617521232 -0.037035299439698535217679875586327 -2.7207170387858861104746210912708" xyz="-0.01766 0.029456 0.00104"/>
    <axis xyz="0 0 1"/>
    <parent link="right_tarsus"/>
    <child link="right_heel_spring"/>
    <dynamics damping="0.0" friction="0.0"/>
    <limit effort="12" lower="-0.1047" upper="0.1047" velocity="11.5"/>
  </joint> 

  <!-- right toe close loop -->
  <!-- <joint name="right_toe_A" type="revolute">
    <origin rpy="3.1415926535897932384626433832795 0 1.5526446425200970402613620535703" xyz="0.059 0.034 -0.0276"/>
    <axis xyz="0 0 1"/>
    <parent link="right_tarsus"/>
    <child link="right_toe_A"/>
    <dynamics damping="1.0" friction="1.0"/>
    <limit effort="0.9" lower="-0.7851" upper="0.8077" velocity="11.5"/>
  </joint>
  <joint name="right_toe_A_rod" type="revolute">
    <origin rpy="0.03717647899635967423392912678537 0.0069418384185932916277672610760874 1.5437611240201540852012840332463" xyz="0.057 0 -0.008"/>
    <axis xyz="0 0 1"/>
    <parent link="right_toe_A"/>
    <child link="right_toe_A_rod"/>
    <dynamics damping="0.01" friction="0.0"/>
    <limit effort="0.9" lower="-1.7453" upper="1.7453" velocity="11.5"/>
  </joint>
  <joint name="right_A2" type="revolute">
    <origin rpy="0 0 0" xyz="0 0 0"/>
    <axis xyz="0 1 0"/>
    <parent link="right_toe_A_rod"/>
    <child link="right_A2"/>
    <dynamics damping="0.01" friction="0.0"/>
    <limit effort="0.9" lower="-1.7453" upper="1.7453" velocity="11.5"/>
  </joint>
  <joint name="right_toe_B" type="revolute">
    <origin rpy="0         0    1.5526446425200970402613620535703" xyz="0.111 0.034 0.0276"/>
    <axis xyz="0 0 1"/>
    <parent link="right_tarsus"/>
    <child link="right_toe_B"/>
    <dynamics damping="1.0" friction="1.0"/>
    <limit effort="0.9" lower="-0.7950" upper="0.8010" velocity="11.5"/>
  </joint>
  <joint name="right_toe_B_rod" type="revolute">
    <origin rpy="0.053844685552438438513878082858355 0.0022826832958013874852465363574083 -1.5418663490001245364169335516635" xyz="0.057 0 -0.008"/>
    <axis xyz="0 0 1"/>
    <parent link="right_toe_B"/>
    <child link="right_toe_B_rod"/>
    <dynamics damping="0.01" friction="0.0"/>
    <limit effort="0.9" lower="-1.7453" upper="1.7453" velocity="11.5"/>
  </joint>
  <joint name="right_B2" type="revolute">
    <origin rpy="0 0 0" xyz="0 0 0"/>
    <axis xyz="0 1 0"/>
    <parent link="right_toe_B_rod"/>
    <child link="right_B2"/>
    <dynamics damping="0.01" friction="0.0"/>
    <limit effort="0.9" lower="-1.7453" upper="1.7453" velocity="11.5"/>
  </joint> -->

  <joint name="right_toe_pitch" type="revolute">
    <origin rpy="0         0   -1.2522744638393012994725950193242" xyz="0.408 0.04 0"/>
    <axis xyz="0 0 1"/>
    <parent link="right_tarsus"/>
    <child link="right_toe_pitch"/>
    <dynamics damping="0.0" friction="0.0"/>
    <limit effort="0.9" lower="-0.5934" upper="0.7679" velocity="11.5"/>
  </joint>
  <joint name="right_toe_roll" type="revolute">
    <origin rpy="0    1.5707963267948966192313216916398         0" xyz="0 0 0"/>
    <axis xyz="0 0 1"/>
    <parent link="right_toe_pitch"/>
    <child link="right_toe_roll"/>
    <dynamics damping="0.0" friction="0.0"/>
    <limit effort="0.9" lower="-0.5760" upper="0.6458" velocity="11.5"/>
  </joint>

  <!-- right arm -->
  <joint name="right_shoulder_roll" type="fixed">
    <origin rpy="1.5707963267948966192313216916398 -1.5467303 -1.5707963267948966192313216916398" xyz="-0.001 -0.12 0.4"/>
    <axis xyz="0 0 1"/>
    <parent link="Rz"/>
    <child link="right_shoulder_roll"/>
    <dynamics damping="2.0" friction="2.0"/>
    <limit effort="1.4" lower="-1.309" upper="1.309" velocity="12.5"/>
  </joint>
  <joint name="right_shoulder_pitch" type="fixed">
    <origin rpy="-1.5707963267948966192313216916398 1.875658163397448285891755404009 0.2792527" xyz="-0.00317 0.011055 0.0555"/>
    <axis xyz="0 0 -1"/>
    <parent link="right_shoulder_roll"/>
    <child link="right_shoulder_pitch"/>
    <dynamics damping="2.0" friction="2.0"/>
    <limit effort="1.4" lower="-2.5307" upper="2.5307" velocity="12.5"/>
  </joint>
  <joint name="right_shoulder_yaw" type="fixed">
    <origin rpy="-1.5707963267948966192313216916398 -0.14981736 0" xyz="0 0.165 -0.1"/>
    <axis xyz="0 0 1"/>
    <parent link="right_shoulder_pitch"/>
    <child link="right_shoulder_yaw"/>
    <dynamics damping="2.0" friction="2.0"/>
    <limit effort="1.4" lower="-1.7453" upper="1.7453" velocity="10"/>
  </joint>
  <joint name="right_elbow" type="fixed">
    <origin rpy="-1.5707963267948966192313216916398 -0.3926991 0" xyz="0 0.0385 0.185"/>
    <axis xyz="0 0 1"/>
    <parent link="right_shoulder_yaw"/>
    <child link="right_elbow"/>
    <dynamics damping="2.0" friction="2.0"/>
    <limit effort="1.4" lower="-1.3526" upper="1.3526" velocity="12.5"/>
  </joint>
</robot>
